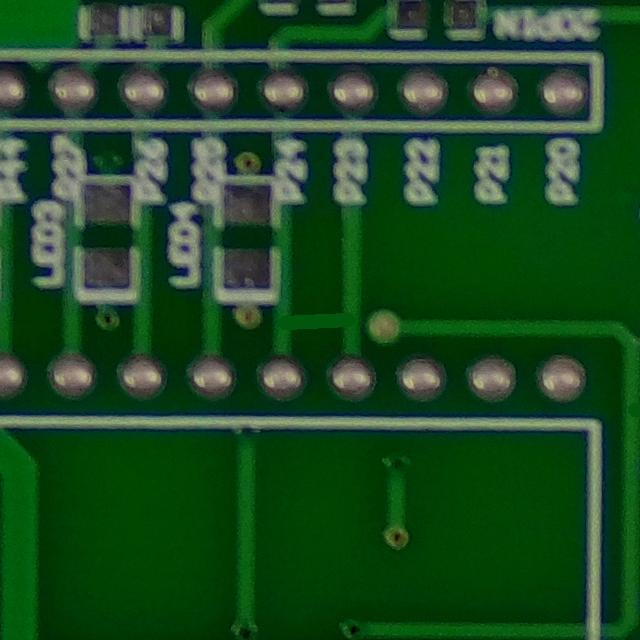short: (260, 277, 380, 363)
